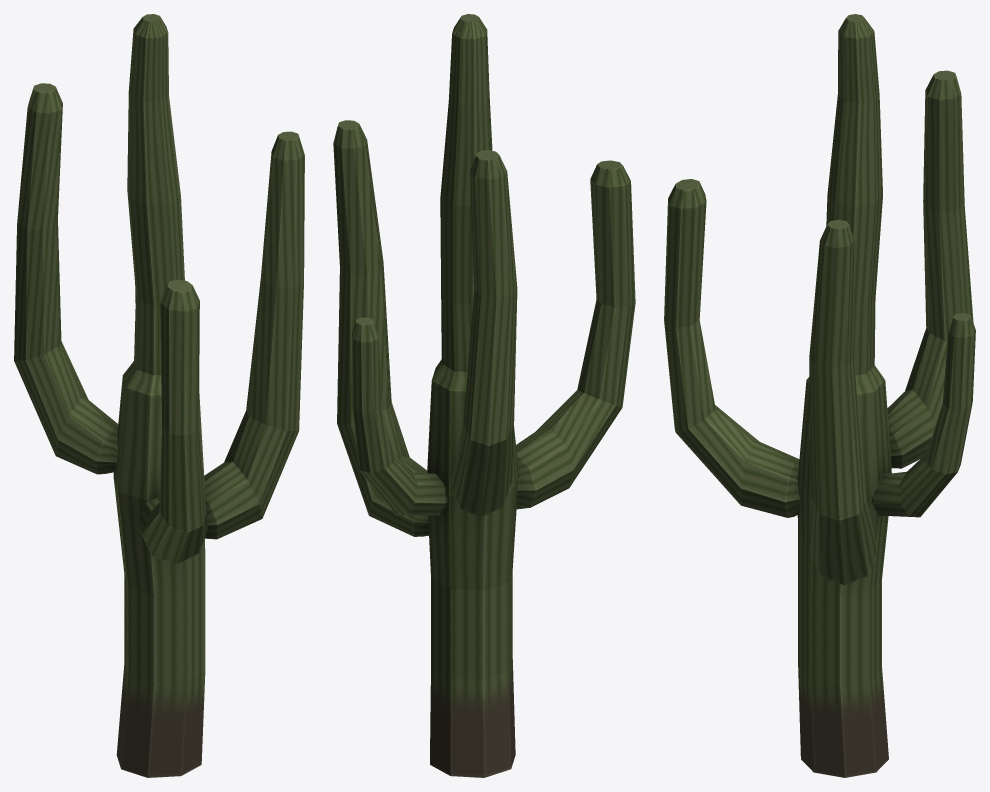
Rendered from cactus.glb.
3 views of the same model, side by side, from view 1: azimuth 30°, elevation 25°; view 2: azimuth 150°, elevation 25°; view 3: azimuth 270°, elevation 25° (orthographic).
Parts seen in each view (by area): view 1: Saguaro_mesh; view 2: Saguaro_mesh; view 3: Saguaro_mesh.
Boxes of the visible parts, left/top/right/bottom form: Saguaro_mesh: left=14, top=14, right=304, bottom=777; Saguaro_mesh: left=333, top=14, right=635, bottom=777; Saguaro_mesh: left=664, top=14, right=975, bottom=777.
Size of the model in its own units: 6.67 by 20.42 by 7.8.
1 material, 1 textured.
